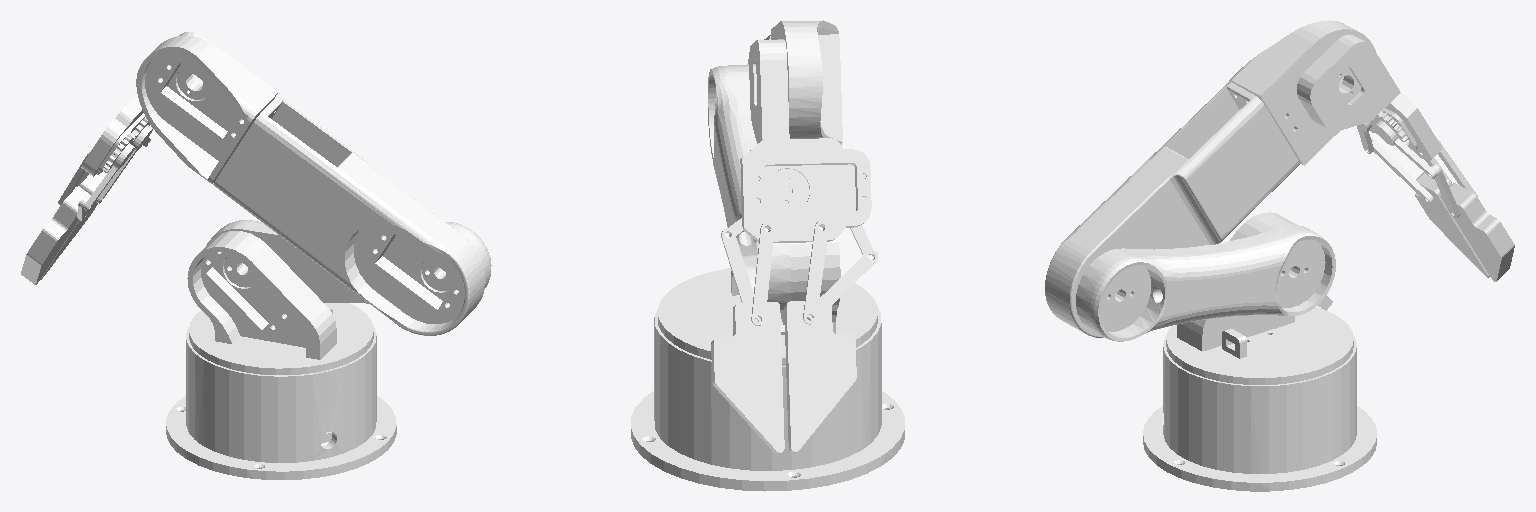
The robot description file, URDF, robot "roboticarm8":
<?xml version="1.0" encoding="utf-8"?>
<!-- This URDF was automatically created by SolidWorks to URDF Exporter! Originally created by [author] ([email redacted]) 
     Commit Version: 1.6.0-4-g7f85cfe  Build Version: 1.6.7995.38578
     For more information, please see http://wiki.ros.org/sw_urdf_exporter -->
<robot name="roboticarm8">
  <link name="world"/>
	<joint name="base_joint" type="fixed">
	<parent link="world"/>
	<child link="base_link"/>
	<origin rpy="0 0 0" xyz="0.0 0.0 0.0"/>
</joint>
  <link name="base_link">
    <inertial>
      <origin
        xyz="4.4244E-07 -0.00074499 0.022029"
        rpy="0 0 0" />
      <mass
        value="0.11625" />
      <inertia ixx="0.00016739" ixy="4.1579E-10" ixz="9.7912E-10" iyy="0.00015904" iyz="-4.2508E-06" izz="0.00025906" />
    </inertial>
    <visual>
      <origin xyz="0 0 0" rpy="0 0 0" />
      <geometry>
        <mesh filename="package://roboticarm8/meshes/base_link.STL" />
      </geometry>
      <material name="">
        <color rgba="1 1 1 1" />
      </material>
    </visual>
    <collision>
      <origin xyz="0 0 0" rpy="0 0 0" />
      <geometry>
        <mesh filename="package://roboticarm8/meshes/base_link.STL" />
      </geometry>
    </collision>
  </link>
  <link name="base_cap">
    <inertial>
      <origin xyz="-0.0061894 -0.002266 0.014457" rpy="0 0 0" />
      <mass value="0.06091" />
      <inertia ixx="4.5144E-05" ixy="5.8496E-06" ixz="7.5901E-06" iyy="4.378E-05" iyz="-1.7088E-06" izz="5.4306E-05" />
    </inertial>
    <visual>
      <origin xyz="0 0 0" rpy="0 0 0" />
      <geometry>
        <mesh filename="package://roboticarm8/meshes/base_cap.STL" />
      </geometry>
      <material name="">
        <color rgba="1 1 1 1" />
      </material>
    </visual>
    <collision>
      <origin xyz="0 0 0" rpy="0 0 0" />
      <geometry>
        <mesh filename="package://roboticarm8/meshes/base_cap.STL" />
      </geometry>
    </collision>
  </link>
  <joint name="base_cap_joint_1" type="revolute">
    <origin xyz="0 0 0.055" rpy="0 0 0" />
    <parent link="base_link" />
    <child link="base_cap" />
    <axis xyz="0 0 1" />
    <limit lower="0" upper="6.2832" effort="200" velocity="3" />
  </joint>
  <link name="link_1">
    <inertial>
      <origin xyz="0.017557 -0.031633 0.044541" rpy="0 0 0" />
      <mass value="0.084015" />
      <inertia ixx="0.00013661" ixy="2.5538E-05" ixz="-3.0902E-05" iyy="0.00010631" iyz="5.4095E-05" izz="6.4211E-05" />
    </inertial>
    <visual>
      <origin xyz="0 0 0" rpy="0 0 0" />
      <geometry>
        <mesh filename="package://roboticarm8/meshes/link_1.STL" />
      </geometry>
      <material
        name="">
        <color
          rgba="1 1 1 1" />
      </material>
    </visual>
    <collision>
      <origin
        xyz="0 0 0"
        rpy="0 0 0" />
      <geometry>
        <mesh
          filename="package://roboticarm8/meshes/link_1.STL" />
      </geometry>
    </collision>
  </link>
  <joint
    name="link_1_joint_2"
    type="revolute">
    <origin
      xyz="-0.0096866 0.01782 0.037393"
      rpy="0.66219 0.33288 0.24945" />
    <parent
      link="base_cap" />
    <child
      link="link_1" />
    <axis
      xyz="-0.87164 -0.49015 0" />
    <limit
      lower="-0.15"
      upper="0.75"
      effort="200"
      velocity="3" />
  </joint>
  <link
    name="link_2">
    <inertial>
      <origin
        xyz="-0.041542 -0.026316 0.025468"
        rpy="0 0 0" />
      <mass
        value="0.11707" />
      <inertia
        ixx="0.00015287"
        ixy="-3.7344E-05"
        ixz="6.1179E-05"
        iyy="0.00014273"
        iyz="4.6611E-05"
        izz="0.00012419" />
    </inertial>
    <visual>
      <origin
        xyz="0 0 0"
        rpy="0 0 0" />
      <geometry>
        <mesh
          filename="package://roboticarm8/meshes/link_2.STL" />
      </geometry>
      <material
        name="">
        <color
          rgba="1 1 1 1" />
      </material>
    </visual>
    <collision>
      <origin
        xyz="0 0 0"
        rpy="0 0 0" />
      <geometry>
        <mesh
          filename="package://roboticarm8/meshes/link_2.STL" />
      </geometry>
    </collision>
  </link>
  <joint
    name="link_2_joint_3"
    type="revolute">
    <origin
      xyz="0.035169 -0.06254 0.088589"
      rpy="-2.1909 -0.41317 0" />
    <parent
      link="link_1" />
    <child
      link="link_2" />
    <axis
      xyz="-0.79829 0 -0.60227" />
    <limit
      lower="-2"
      upper="0.15"
      effort="200"
      velocity="3" />
  </joint>
  <link
    name="link_3">
    <inertial>
      <origin
        xyz="-0.0074458 0.024676 0.010025"
        rpy="0 0 0" />
      <mass
        value="0.033212" />
      <inertia
        ixx="2.2028E-05"
        ixy="5.0871E-06"
        ixz="-6.7647E-09"
        iyy="1.4414E-05"
        iyz="2.1224E-08"
        izz="1.5317E-05" />
    </inertial>
    <visual>
      <origin
        xyz="0 0 0"
        rpy="0 0 0" />
      <geometry>
        <mesh
          filename="package://roboticarm8/meshes/link_3.STL" />
      </geometry>
      <material
        name="">
        <color
          rgba="1 1 1 1" />
      </material>
    </visual>
    <collision>
      <origin
        xyz="0 0 0"
        rpy="0 0 0" />
      <geometry>
        <mesh
          filename="package://roboticarm8/meshes/link_3.STL" />
      </geometry>
    </collision>
  </link>
  <joint
    name="link_3_joint_4"
    type="revolute">
    <origin
      xyz="-0.083626 -0.054825 0.080956"
      rpy="2.0043 -0.12047 0.25406" />
    <parent
      link="link_2" />
    <child
      link="link_3" />
    <axis
      xyz="-0.54286 0.83982 0" />
    <limit
      lower="0"
      upper="3.1416"
      effort="200"
      velocity="3" />
  </joint>
  <link
    name="link_4">
    <inertial>
      <origin
        xyz="-0.010128 -0.0020305 0.02133"
        rpy="0 0 0" />
      <mass
        value="0.033861" />
      <inertia
        ixx="2.6821E-05"
        ixy="-9.2733E-07"
        ixz="6.9404E-06"
        iyy="2.9083E-05"
        iyz="3.3459E-06"
        izz="1.0614E-05" />
    </inertial>
    <visual>
      <origin
        xyz="0 0 0"
        rpy="0 0 0" />
      <geometry>
        <mesh
          filename="package://roboticarm8/meshes/link_4.STL" />
      </geometry>
      <material
        name="">
        <color
          rgba="1 1 1 1" />
      </material>
    </visual>
    <collision>
      <origin
        xyz="0 0 0"
        rpy="0 0 0" />
      <geometry>
        <mesh
          filename="package://roboticarm8/meshes/link_4.STL" />
      </geometry>
    </collision>
  </link>
  <joint
    name="link_4_joint_5"
    type="revolute">
    <origin
      xyz="6.9976E-05 0.044102 0.01"
      rpy="3.1416 0 0" />
    <parent
      link="link_3" />
    <child
      link="link_4" />
    <axis
      xyz="-0.83982 0.54286 0" />
    <limit
      lower="-3.2"
      upper="0.55"
      effort="200"
      velocity="3" />
  </joint>
  <link
    name="gear_1">
    <inertial>
      <origin
        xyz="0.00032186 0.002437 0.0028562"
        rpy="0 0 0" />
      <mass
        value="0.0022834" />
      <inertia
        ixx="2.4763E-07"
        ixy="3.6369E-08"
        ixz="2.5127E-08"
        iyy="1.8109E-07"
        iyz="-6.9201E-08"
        izz="1.124E-07" />
    </inertial>
    <visual>
      <origin
        xyz="0 0 0"
        rpy="0 0 0" />
      <geometry>
        <mesh
          filename="package://roboticarm8/meshes/gear_1.STL" />
      </geometry>
      <material
        name="">
        <color
          rgba="1 1 1 1" />
      </material>
    </visual>
    <collision>
      <origin
        xyz="0 0 0"
        rpy="0 0 0" />
      <geometry>
        <mesh
          filename="package://roboticarm8/meshes/gear_1.STL" />
      </geometry>
    </collision>
  </link>
  <joint
    name="gear_1_joint_6"
    type="revolute">
    <origin
      xyz="-0.012677 -0.0043084 0.049"
      rpy="1.5708 0.48809 0.99696" />
    <parent
      link="link_4" />
    <child
      link="gear_1" />
    <axis
      xyz="-0.88323 -0.46894 0" />
    <limit
      lower="-0.75"
      upper="0.01"
      effort="100"
      velocity="3" />
  </joint>
  <link
    name="link_5">
    <inertial>
      <origin
        xyz="-0.01861 0.011593 -0.0094413"
        rpy="0 0 0" />
      <mass
        value="0.0015553" />
      <inertia
        ixx="1.9426E-07"
        ixy="9.4345E-08"
        ixz="-7.1583E-09"
        iyy="6.6655E-08"
        iyz="1.3482E-08"
        izz="2.3012E-07" />
    </inertial>
    <visual>
      <origin
        xyz="0 0 0"
        rpy="0 0 0" />
      <geometry>
        <mesh
          filename="package://roboticarm8/meshes/link_5.STL" />
      </geometry>
      <material
        name="">
        <color
          rgba="1 1 1 1" />
      </material>
    </visual>
    <collision>
      <origin
        xyz="0 0 0"
        rpy="0 0 0" />
      <geometry>
        <mesh
          filename="package://roboticarm8/meshes/link_5.STL" />
      </geometry>
    </collision>
  </link>
  <joint
    name="link_5_joint_6"
    type="fixed">
    <origin
      xyz="-0.0047678 0.018576 0.026603"
      rpy="0 0 0" />
    <parent
      link="gear_1" />
    <child
      link="link_5" />
    <axis
      xyz="0 0 0" />
    <limit
      lower="0"
      upper="1"
      effort="100"
      velocity="3" />
  </joint>
  <link
    name="grip_1">
    <inertial>
      <origin
        xyz="-0.017372 0.015659 0.0021786"
        rpy="0 0 0" />
      <mass
        value="0.014256" />
      <inertia
        ixx="3.7464E-06"
        ixy="1.4458E-06"
        ixz="-1.2722E-07"
        iyy="1.7909E-06"
        iyz="2.3962E-07"
        izz="3.7283E-06" />
    </inertial>
    <visual>
      <origin
        xyz="0 0 0"
        rpy="0 0 0" />
      <geometry>
        <mesh
          filename="package://roboticarm8/meshes/grip_1.STL" />
      </geometry>
      <material
        name="">
        <color
          rgba="1 1 1 1" />
      </material>
    </visual>
    <collision>
      <origin
        xyz="0 0 0"
        rpy="0 0 0" />
      <geometry>
        <mesh
          filename="package://roboticarm8/meshes/grip_1.STL" />
      </geometry>
    </collision>
  </link>
  <joint
    name="grip_1_joint_7"
    type="fixed">
    <origin
      xyz="-0.020707 0.032603 -0.010831"
      rpy="0 0 0" />
    <parent
      link="link_5" />
    <child
      link="grip_1" />
    <axis
      xyz="0 0 0" />
    <limit
      lower="0"
      upper="6.28319"
      effort="100"
      velocity="3" />
  </joint>
  <link
    name="gear_2">
    <inertial>
      <origin
        xyz="-0.0002612 -0.0035016 0.0013753"
        rpy="0 0 0" />
      <mass
        value="0.0022836" />
      <inertia
        ixx="2.3308E-07"
        ixy="-6.7816E-08"
        ixz="2.2266E-08"
        iyy="1.1566E-07"
        iyz="5.1877E-08"
        izz="1.9277E-07" />
    </inertial>
    <visual>
      <origin
        xyz="0 0 0"
        rpy="0 0 0" />
      <geometry>
        <mesh
          filename="package://roboticarm8/meshes/gear_2.STL" />
      </geometry>
      <material
        name="">
        <color
          rgba="1 1 1 1" />
      </material>
    </visual>
    <collision>
      <origin
        xyz="0 0 0"
        rpy="0 0 0" />
      <geometry>
        <mesh
          filename="package://roboticarm8/meshes/gear_2.STL" />
      </geometry>
    </collision>
  </link>
  <joint
    name="gear_2_joint_8"
    type="revolute">
    <origin
      xyz="-0.032413 0.0084488 0.049"
      rpy="-1.5755 0.49303 0.99475" />
    <parent
      link="link_4" />
    <child
      link="gear_2" />
    <axis
      xyz="0.8809 -0.47331 0" />
    <limit
      lower="-0.75"
      upper="0.01"
      effort="100"
      velocity="3" />
    <mimic
      joint="gear_1_joint_6"
      multiplier="1"
      offset="0" />
  </joint>
  <link
    name="link_5_1">
    <inertial>
      <origin
        xyz="-0.014639 0.0041145 0.020416"
        rpy="0 0 0" />
      <mass
        value="0.0015553" />
      <inertia
        ixx="2.065E-07"
        ixy="7.1279E-08"
        ixz="3.6198E-08"
        iyy="1.101E-07"
        iyz="-6.8177E-08"
        izz="1.7443E-07" />
    </inertial>
    <visual>
      <origin
        xyz="0 0 0"
        rpy="0 0 0" />
      <geometry>
        <mesh
          filename="package://roboticarm8/meshes/link_5_1.STL" />
      </geometry>
      <material
        name="">
        <color
          rgba="1 1 1 1" />
      </material>
    </visual>
    <collision>
      <origin
        xyz="0 0 0"
        rpy="0 0 0" />
      <geometry>
        <mesh
          filename="package://roboticarm8/meshes/link_5_1.STL" />
      </geometry>
    </collision>
  </link>
  <joint
    name="link_5_1_joint_9"
    type="fixed">
    <origin
      xyz="-0.010174 -0.028443 0.012806"
      rpy="-3.138 -0.0019291 -0.0049516" />
    <parent
      link="gear_2" />
    <child
      link="link_5_1" />
    <axis
      xyz="0 0 0" />
    <limit
      lower="0"
      upper="1"
      effort="100"
      velocity="3" />
    <mimic
      joint="link_5_joint_6"
      multiplier="1"
      offset="0" />
  </joint>
  <link
    name="grip_2">
    <inertial>
      <origin
        xyz="-0.017372 0.015659 -0.0021786"
        rpy="0 0 0" />
      <mass
        value="0.014256" />
      <inertia
        ixx="3.7464E-06"
        ixy="1.4458E-06"
        ixz="1.2722E-07"
        iyy="1.7909E-06"
        iyz="-2.3962E-07"
        izz="3.7283E-06" />
    </inertial>
    <visual>
      <origin
        xyz="0 0 0"
        rpy="0 0 0" />
      <geometry>
        <mesh
          filename="package://roboticarm8/meshes/grip_2.STL" />
      </geometry>
      <material
        name="">
        <color
          rgba="1 1 1 1" />
      </material>
    </visual>
    <collision>
      <origin
        xyz="0 0 0"
        rpy="0 0 0" />
      <geometry>
        <mesh
          filename="package://roboticarm8/meshes/grip_2.STL" />
      </geometry>
    </collision>
  </link>
  <joint
    name="grip_5_joint_11"
    type="fixed">
    <origin
      xyz="-0.015385 0.02258 0.029368"
      rpy="0 0 0" />
    <parent
      link="link_5_1" />
    <child
      link="grip_2" />
    <axis
      xyz="0 0 0" />
    <limit
      lower="0"
      upper="6.28319"
      effort="100"
      velocity="3" />
    <mimic
      joint="grip_1_joint_7"
      multiplier="1"
      offset="0" />
  </joint>
<transmission name="base_cap_trans">
        <type>transmission_interface/SimpleTransmission</type>
        <joint name="base_cap_joint_1">
            <hardwareInterface>hardware_interface/PositionJointInterface</hardwareInterface>
        </joint>
        <actuator name="base_cap_motor">
            <hardwareInterface>hardware_interface/PositionJointInterface</hardwareInterface>
            <mechanicalReduction>1</mechanicalReduction>
        </actuator>
    </transmission>

    <transmission name="link_1_trans">
        <type>transmission_interface/SimpleTransmission</type>
        <joint name="link_1_joint_2">
            <hardwareInterface>hardware_interface/PositionJointInterface</hardwareInterface>
        </joint>
        <actuator name="link_1_motor">
            <hardwareInterface>hardware_interface/PositionJointInterface</hardwareInterface>
            <mechanicalReduction>1</mechanicalReduction>
        </actuator>
    </transmission>

    <transmission name="link_2_trans">
        <type>transmission_interface/SimpleTransmission</type>
        <joint name="link_2_joint_3">
            <hardwareInterface>hardware_interface/PositionJointInterface</hardwareInterface>
        </joint>
        <actuator name="link_2_motor">
            <hardwareInterface>hardware_interface/PositionJointInterface</hardwareInterface>
            <mechanicalReduction>1</mechanicalReduction>
        </actuator>
    </transmission>

    <transmission name="link_3_trans">
        <type>transmission_interface/SimpleTransmission</type>
        <joint name="link_3_joint_4">
            <hardwareInterface>hardware_interface/PositionJointInterface</hardwareInterface>
        </joint>
        <actuator name="link_3_motor">
            <hardwareInterface>hardware_interface/PositionJointInterface</hardwareInterface>
            <mechanicalReduction>1</mechanicalReduction>
        </actuator>
    </transmission>

    <transmission name="link_4_trans">
        <type>transmission_interface/SimpleTransmission</type>
        <joint name="link_4_joint_5">
            <hardwareInterface>hardware_interface/PositionJointInterface</hardwareInterface>
        </joint>
        <actuator name="link_4_motor">
            <hardwareInterface>hardware_interface/PositionJointInterface</hardwareInterface>
            <mechanicalReduction>1</mechanicalReduction>
        </actuator>
    </transmission>

    <transmission name="gear_1_trans">
        <type>transmission_interface/SimpleTransmission</type>
        <joint name="gear_1_joint_6">
            <hardwareInterface>hardware_interface/PositionJointInterface</hardwareInterface>
        </joint>
        <actuator name="gear_1_motor">
            <hardwareInterface>hardware_interface/PositionJointInterface</hardwareInterface>
            <mechanicalReduction>1</mechanicalReduction>
        </actuator>
    </transmission>

    <transmission name="gear_2_trans">
        <type>transmission_interface/SimpleTransmission</type>
        <joint name="gear_2_joint_8">
            <hardwareInterface>hardware_interface/PositionJointInterface</hardwareInterface>
        </joint>
        <actuator name="gear_2_motor">
            <hardwareInterface>hardware_interface/PositionJointInterface</hardwareInterface>
            <mechanicalReduction>1</mechanicalReduction>
        </actuator>
    </transmission>
 <gazebo>
    <plugin name="gazebo_ros_control" filename="libgazebo_ros_control.so">
        <robotNamespace>/</robotNamespace>
    </plugin>
 </gazebo>

 <gazebo reference="link_1">
    <selfCollide>true</selfCollide>
 </gazebo>

 <gazebo reference="link_2">
    <selfCollide>true</selfCollide>
 </gazebo>

 <gazebo reference="link_3">
    <selfCollide>true</selfCollide>
 </gazebo>

 <gazebo reference="link_4">
    <selfCollide>true</selfCollide>
 </gazebo>

 <gazebo reference="gear_1">
    <selfCollide>true</selfCollide>
 </gazebo>

 <gazebo reference="gear_2">
    <selfCollide>true</selfCollide>
 </gazebo>
</robot>


--- What the picture shows (computed from the rendered views, not written in the file) ---
Views: 3 orthographic renders of the robot side by side, from view 1: azimuth 30°, elevation 25°; view 2: azimuth 150°, elevation 25°; view 3: azimuth 270°, elevation 25°.
Model roboticarm8 with 13 links and 12 joints (7 revolute, 5 fixed), rooted at world, posed every joint at zero.
Links seen in each view (by area): view 1: link_2, base_link, base_cap, link_3, link_1, link_4, grip_2, gear_2, grip_1; view 2: base_link, link_4, base_cap, grip_1, grip_2, link_1, link_3, link_5, link_5_1, gear_1; view 3: link_2, base_link, link_1, base_cap, link_4, link_3, grip_1, grip_2, gear_1, link_5, link_5_1.
Boxes of the visible links, x1=… form: link_2: x1=213, y1=96, x2=485, y2=335; base_link: x1=166, y1=328, x2=396, y2=479; base_cap: x1=187, y1=231, x2=373, y2=374; link_3: x1=136, y1=36, x2=277, y2=183; link_1: x1=206, y1=220, x2=491, y2=303; link_4: x1=81, y1=32, x2=209, y2=176; grip_2: x1=21, y1=186, x2=90, y2=284; gear_2: x1=83, y1=132, x2=135, y2=210; grip_1: x1=40, y1=173, x2=105, y2=279; base_link: x1=631, y1=309, x2=904, y2=491; link_4: x1=740, y1=39, x2=871, y2=242; base_cap: x1=658, y1=226, x2=877, y2=365; grip_1: x1=711, y1=302, x2=784, y2=454; grip_2: x1=784, y1=300, x2=856, y2=453; link_1: x1=708, y1=64, x2=790, y2=334; link_3: x1=771, y1=20, x2=842, y2=144; link_5: x1=721, y1=222, x2=774, y2=325; link_5_1: x1=803, y1=221, x2=877, y2=324; gear_1: x1=726, y1=169, x2=809, y2=236; link_2: x1=1045, y1=82, x2=1299, y2=337; base_link: x1=1143, y1=335, x2=1376, y2=491; link_1: x1=1076, y1=225, x2=1335, y2=341; base_cap: x1=1166, y1=212, x2=1353, y2=384; link_4: x1=1297, y1=35, x2=1442, y2=161; link_3: x1=1229, y1=20, x2=1375, y2=165; grip_1: x1=1440, y1=183, x2=1514, y2=281; grip_2: x1=1415, y1=172, x2=1489, y2=277; gear_1: x1=1373, y1=111, x2=1436, y2=178; link_5: x1=1431, y1=137, x2=1477, y2=218; link_5_1: x1=1371, y1=139, x2=1451, y2=203.
Size in the robot's own frame: 0.1785 by 0.2427 by 0.2199 metres.
12 mesh visuals loaded from 12 distinct referenced files (12 binary STL).